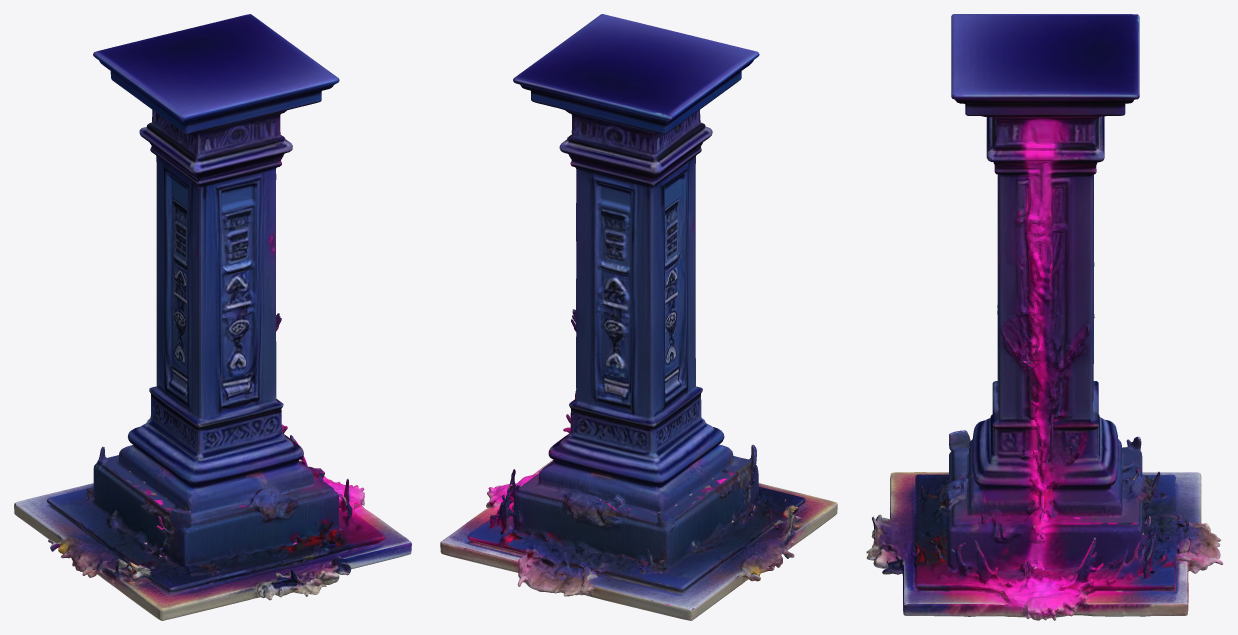
The model's file is weathered-monolith-pillar-generated-2026-04-19T23-42-40-008Z.medium.glb.
3 views of the same model, side by side, from view 1: azimuth 30°, elevation 25°; view 2: azimuth 150°, elevation 25°; view 3: azimuth 270°, elevation 25° (orthographic). The views are drawn at different scales.
Parts seen in each view (by area): view 1: temp_mesh.ply; view 2: temp_mesh.ply; view 3: temp_mesh.ply.
Part boxes in pixels (left/top/right/bottom): temp_mesh.ply: left=14, top=14, right=411, bottom=620; temp_mesh.ply: left=440, top=14, right=837, bottom=620; temp_mesh.ply: left=866, top=14, right=1223, bottom=620.
Size of the model in its own units: 1.28 by 1.97 by 1.28.
1 material, 1 textured.
